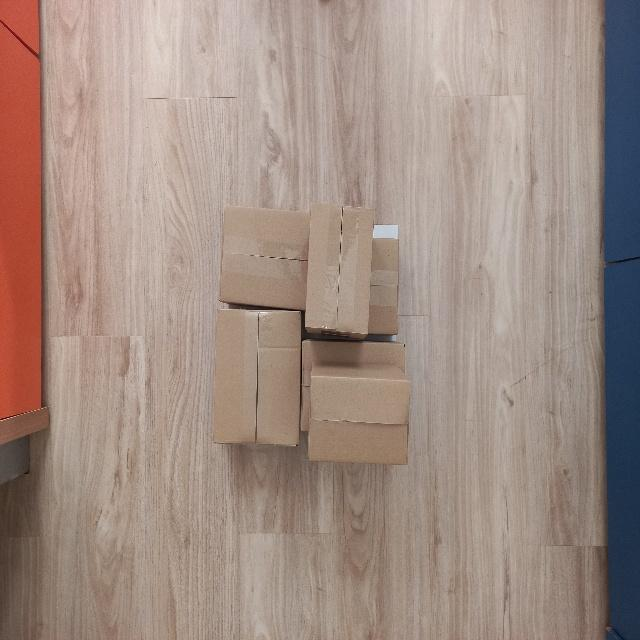box: (213, 306, 302, 451), (307, 363, 413, 469), (304, 200, 376, 340), (216, 204, 308, 308)
